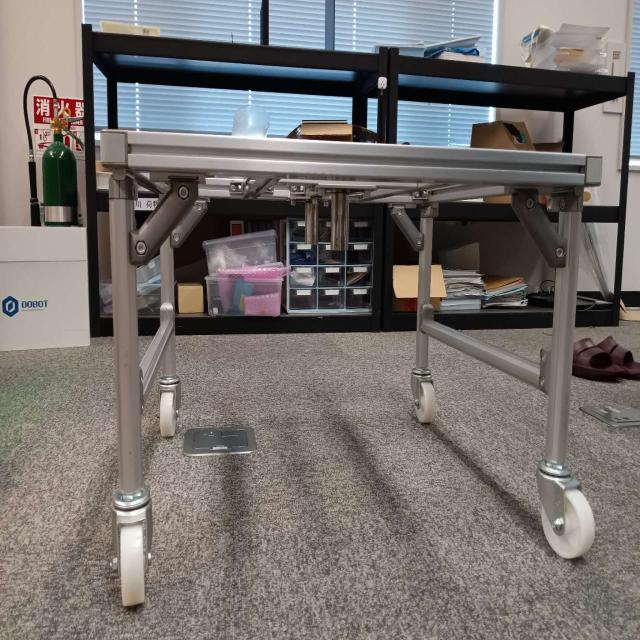door: (112, 124, 575, 275)
